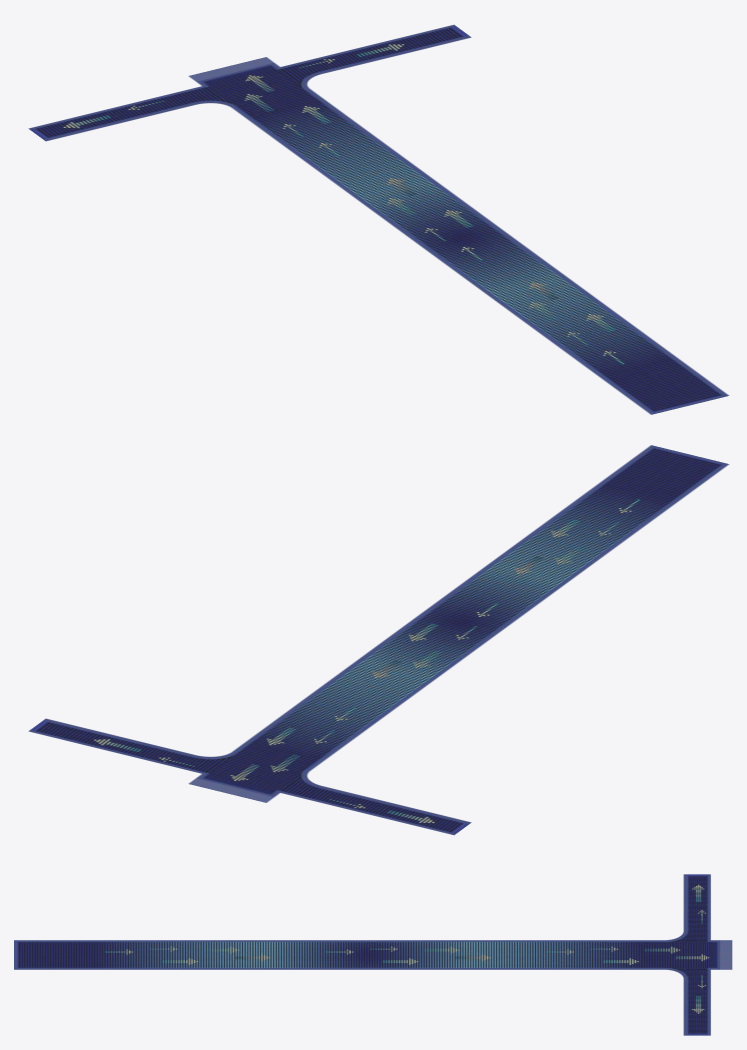
Rendered from way-transformed.glb.
3 renders of one model, top to bottom at view 1: azimuth 30°, elevation 25°; view 2: azimuth 150°, elevation 25°; view 3: azimuth 270°, elevation 25°, orthographic. The views are drawn at different scales.
Visible parts, largest first — view 1: Asset 2@5x; view 2: Asset 2@5x; view 3: Asset 2@5x.
Part boxes in pixels (<box>): Asset 2@5x: <box>28,24,729,414</box>; Asset 2@5x: <box>28,445,729,835</box>; Asset 2@5x: <box>14,874,732,1035</box>.
Size of the model in its own units: 44.97 by 0 by 84.72.
Materials: 1 (1 with a texture image).
